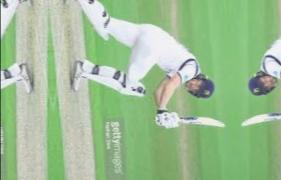batsman: (51, 1, 229, 131)
